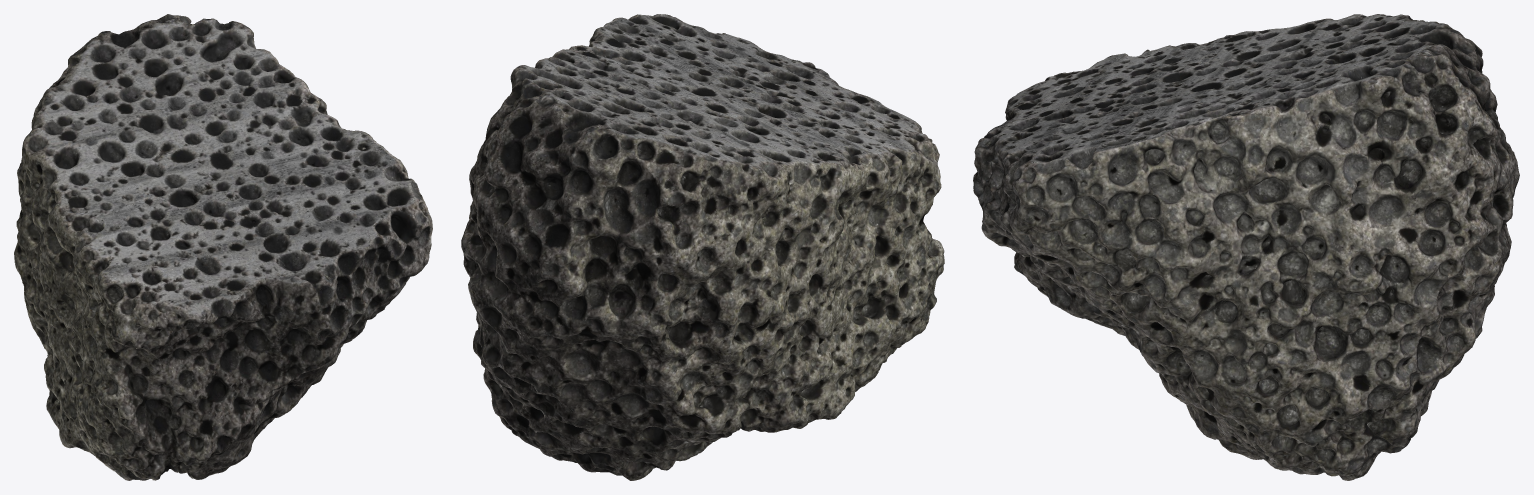
The model's file is rock-15016.glb.
3 views of the same model, side by side, from view 1: azimuth 30°, elevation 25°; view 2: azimuth 150°, elevation 25°; view 3: azimuth 270°, elevation 25° (orthographic). The views are drawn at different scales.
Size of the model in its own units: 0.0607 by 0.0715 by 0.0821.
1 material, 1 textured.
